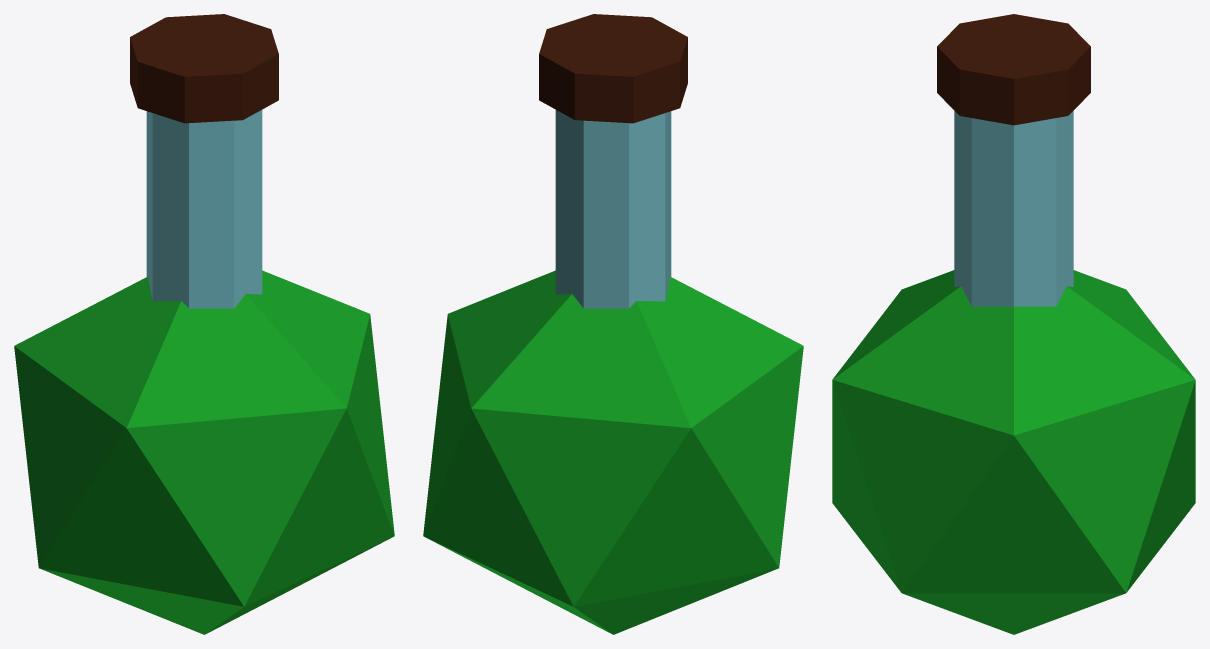
File: flask_round.obj
3 views of the same model, side by side, from view 1: azimuth 30°, elevation 25°; view 2: azimuth 150°, elevation 25°; view 3: azimuth 270°, elevation 25° (orthographic).
Visible parts, largest first — view 1: flask_round; view 2: flask_round; view 3: flask_round.
Boxes of the visible parts, <box> form: flask_round: <box>14,14,394,634</box>; flask_round: <box>423,14,803,634</box>; flask_round: <box>832,14,1195,634</box>.
Size of the model in its own units: 0.4472 by 0.76 by 0.4253.
